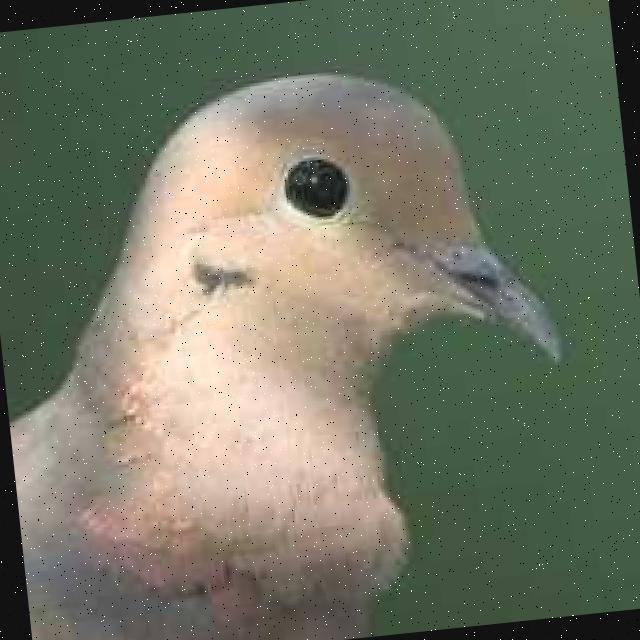dove: (0, 27, 606, 640)
